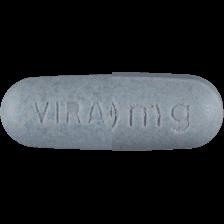63010-010: (0, 0, 224, 224)
